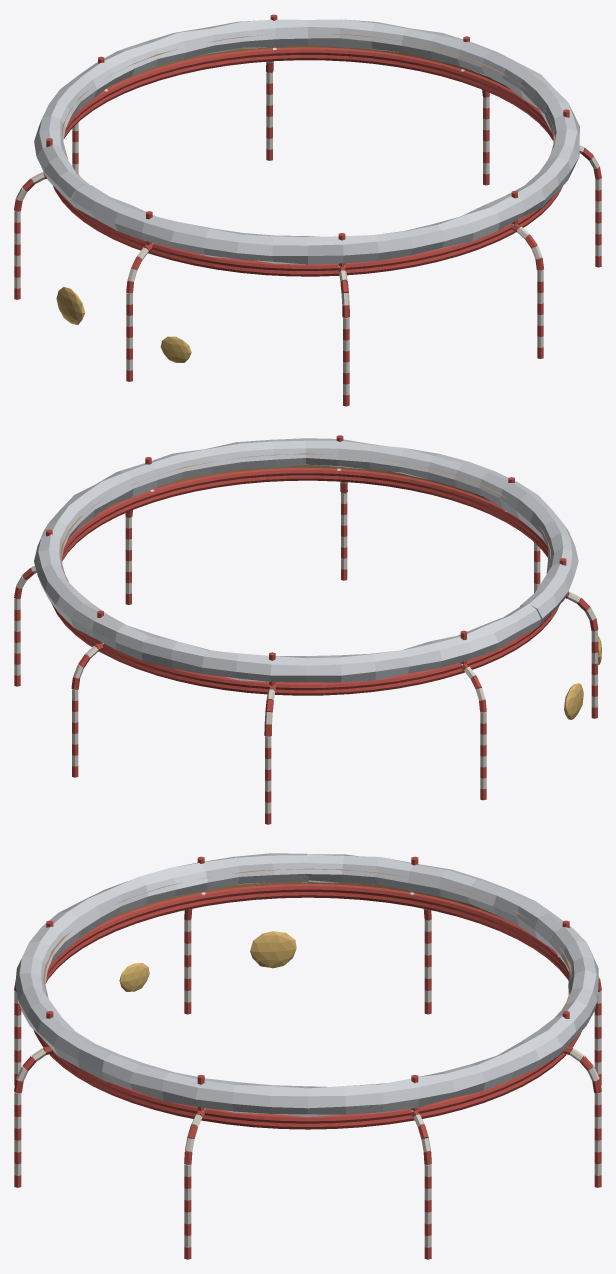
File: goo_jar_trim_2_mid@winter.fbx
The picture shows the model from 3 angles, top to bottom: view 1: azimuth 30°, elevation 25°; view 2: azimuth 150°, elevation 25°; view 3: azimuth 270°, elevation 25°; orthographic projection. The views are drawn at different scales.
Parts seen in each view (by area): view 1: goo_jar_trim_2_mid; view 2: goo_jar_trim_2_mid; view 3: goo_jar_trim_2_mid.
Boxes of the visible parts, bbox=[...] form: goo_jar_trim_2_mid: bbox=[14, 14, 601, 406]; goo_jar_trim_2_mid: bbox=[14, 435, 601, 824]; goo_jar_trim_2_mid: bbox=[14, 853, 601, 1259].
Size of the model in its own units: 53.09 by 16.05 by 50.91.
